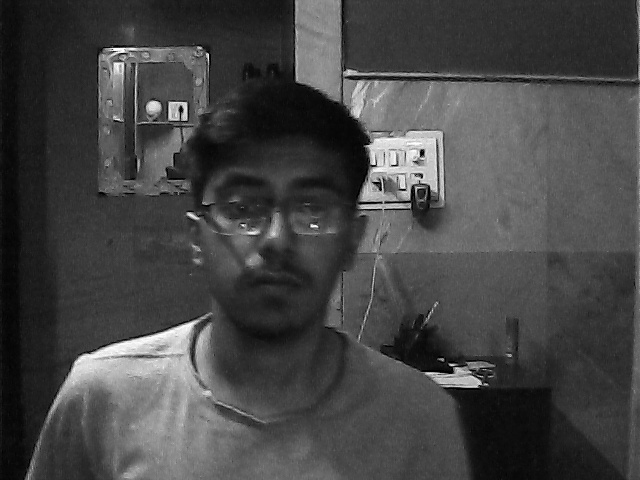nomask: (197, 153, 356, 334)
